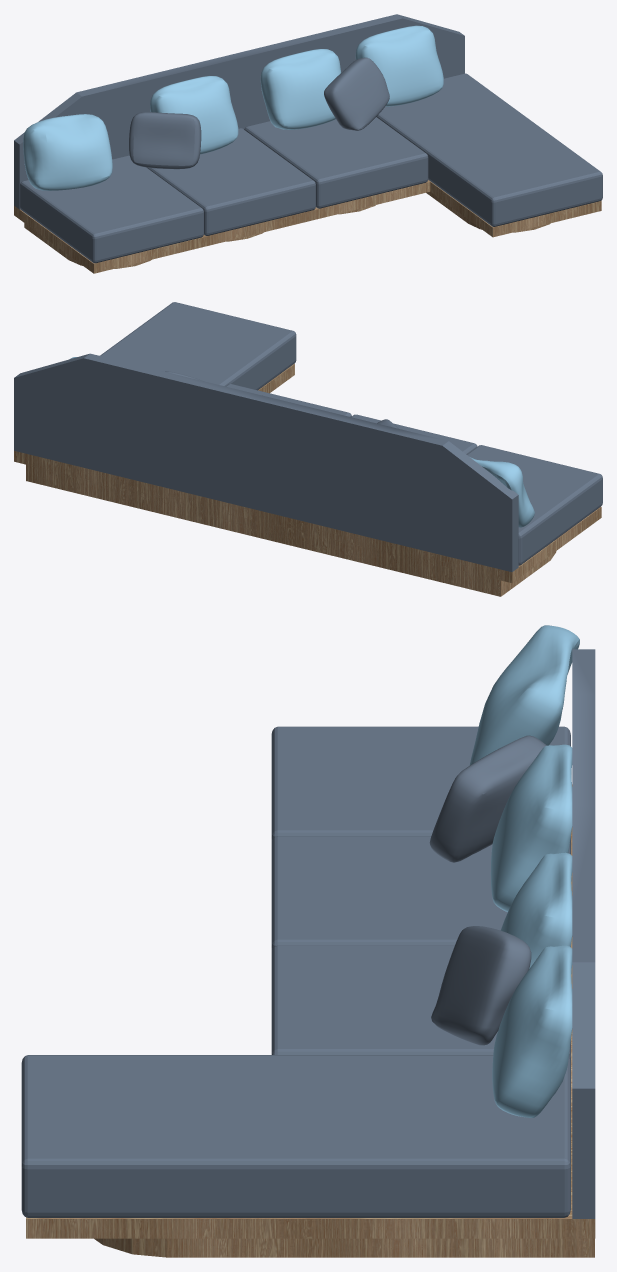
The model's file is CouchV1.glb.
The picture shows the model from 3 angles, top to bottom: view 1: azimuth 30°, elevation 25°; view 2: azimuth 150°, elevation 25°; view 3: azimuth 270°, elevation 25°; orthographic projection. The views are drawn at different scales.
Parts seen in each view (by area): view 1: Couch_v1_2, Pillows.001, Pillows.005, Pillows.007, Pillows, Pillows.003, Pillows.002; view 2: Couch_v1_2, Pillows.001; view 3: Couch_v1_2, Pillows.007, Pillows, Pillows.001, Pillows.002, Pillows.003, Pillows.005.
Part boxes in pixels (left/top/right/bottom): Couch_v1_2: left=14, top=14, right=602, bottom=273; Pillows.001: left=23, top=114, right=112, bottom=190; Pillows.005: left=260, top=49, right=341, bottom=129; Pillows.007: left=355, top=25, right=443, bottom=106; Pillows: left=150, top=76, right=238, bottom=154; Pillows.003: left=129, top=112, right=201, bottom=169; Pillows.002: left=324, top=57, right=389, bottom=130; Couch_v1_2: left=14, top=302, right=602, bottom=596; Pillows.001: left=470, top=457, right=534, bottom=527; Couch_v1_2: left=21, top=649, right=595, bottom=1257; Pillows.007: left=492, top=945, right=572, bottom=1117; Pillows: left=490, top=744, right=572, bottom=912; Pillows.001: left=469, top=625, right=579, bottom=765; Pillows.002: left=431, top=926, right=531, bottom=1045; Pillows.003: left=429, top=735, right=546, bottom=862; Pillows.005: left=500, top=852, right=572, bottom=968.
Bounding box in the file's own units: 4.49 × 1.17 × 2.49.
4 materials, 1 textured.
